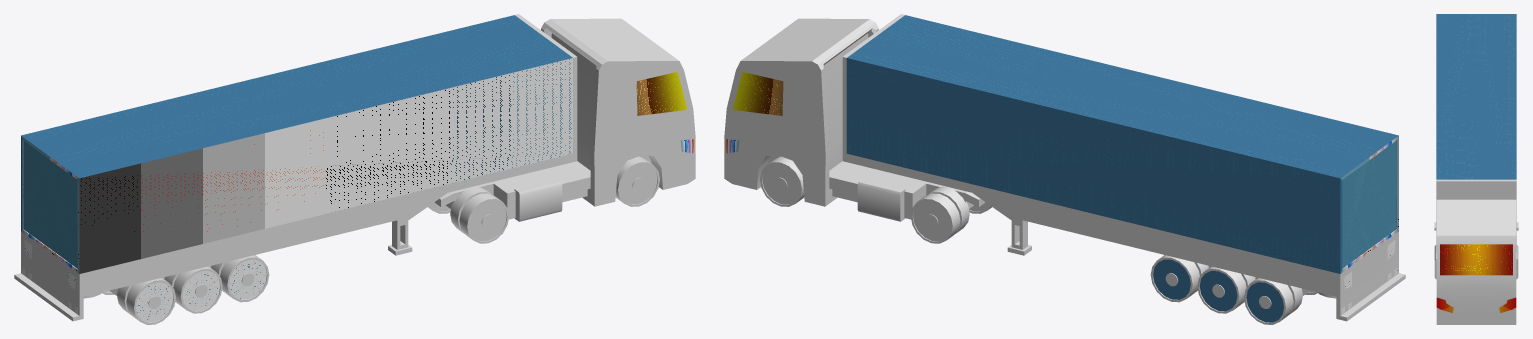
File: truck1.glb
3 renders of one model, left to right at view 1: azimuth 30°, elevation 25°; view 2: azimuth 150°, elevation 25°; view 3: azimuth 270°, elevation 25°, orthographic. The views are drawn at different scales.
Visible parts, largest first — view 1: Trailer, Front; view 2: Trailer, Front; view 3: Trailer, Front.
Part boxes in pixels (box(x1,y1,x2,y2)): Trailer: box(14, 14, 577, 324); Front: box(428, 18, 695, 243); Trailer: box(842, 14, 1405, 324); Front: box(724, 18, 991, 243); Trailer: box(1434, 14, 1518, 252); Front: box(1434, 199, 1518, 324).
Size of the model in its own units: 12.56 by 3.18 by 2.14.
Materials: 7 (3 with a texture image).
